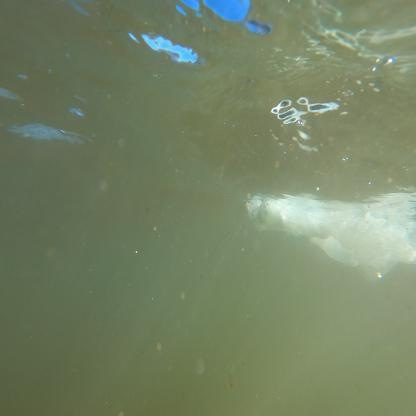Rác: (243, 184, 415, 284)
